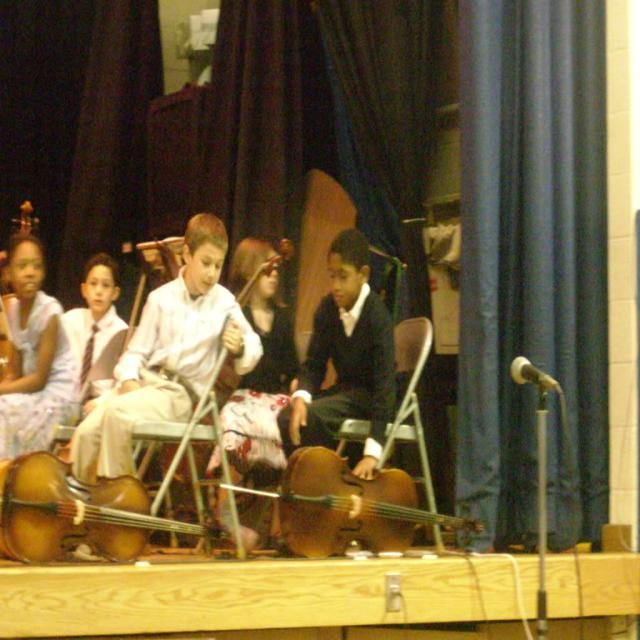cello: (0, 446, 236, 566), (274, 445, 488, 563), (232, 232, 299, 306)
